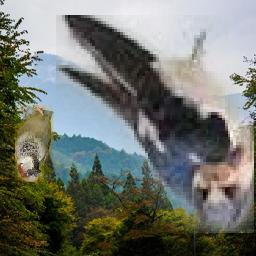Sparrow: (16, 106, 55, 183)
Swallow: (56, 15, 254, 233)
